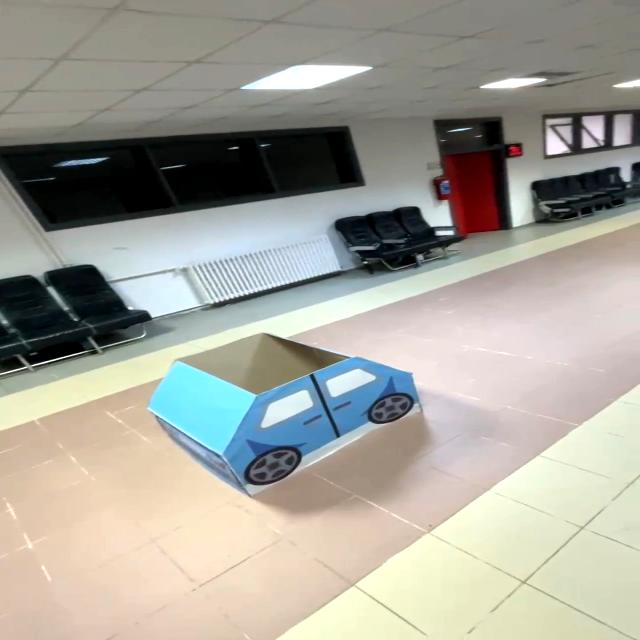blue_car: (130, 329, 457, 499)
